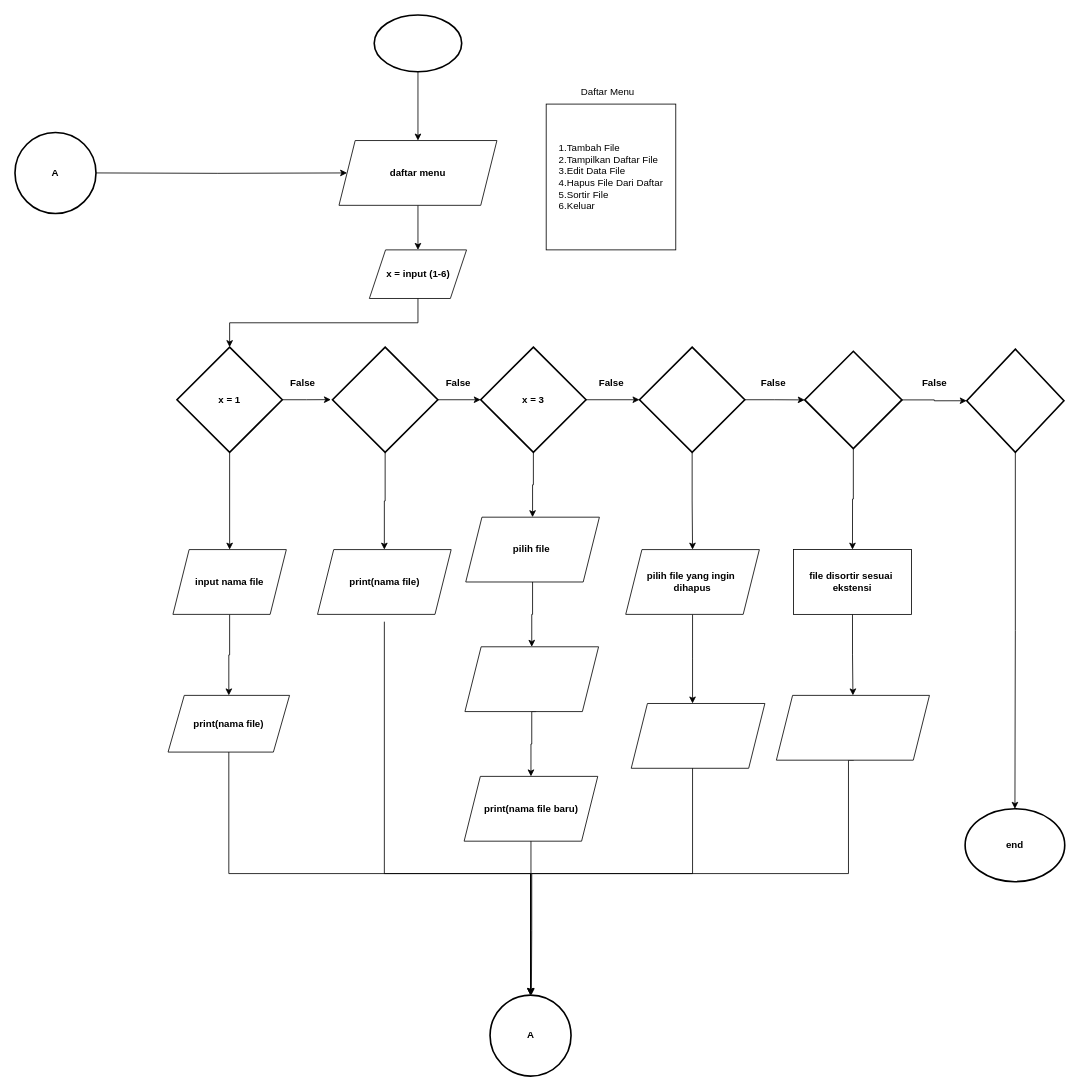
The diagram is 1079 pixels wide and 1090 high, and some of its shapes have lost their labels. Here are the shapes that lost their labels. From the top down, the centre of each, then its label:
At [417,43]: "start".
At [384,399]: "x = 2".
At [691,399]: "x = 4".
At [853,399]: "x = 5".
At [1015,400]: "x = 6".
At [531,679]: "input nama file baru".
At [697,735]: "file dihapus".
At [852,727]: "print(hasil file yang disortir)".
